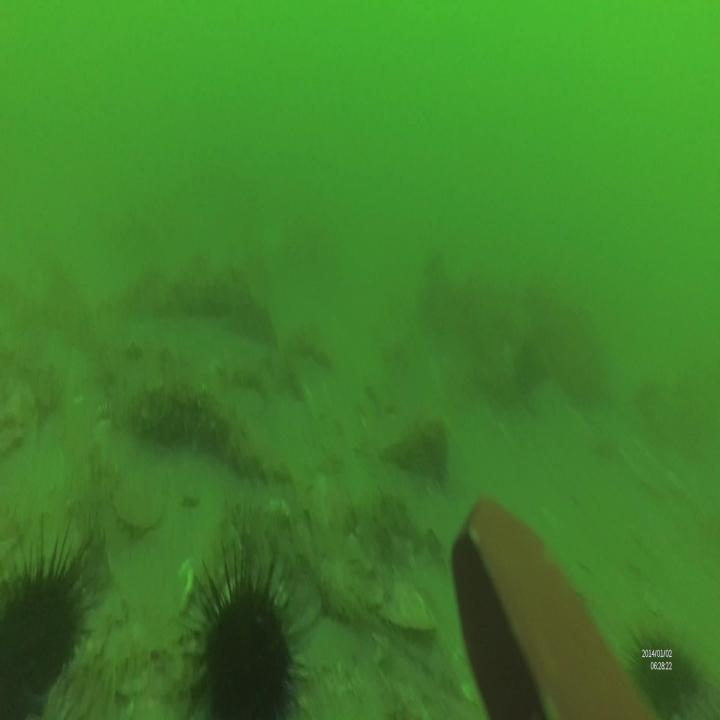echinus: (175, 535, 317, 720), (0, 516, 99, 718), (621, 620, 701, 720)
holothurian: (126, 376, 290, 484)
